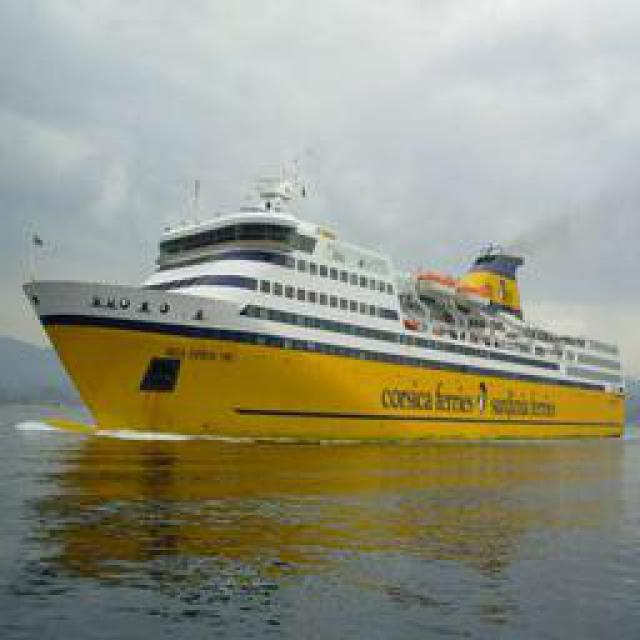Ship: (29, 187, 624, 435)
